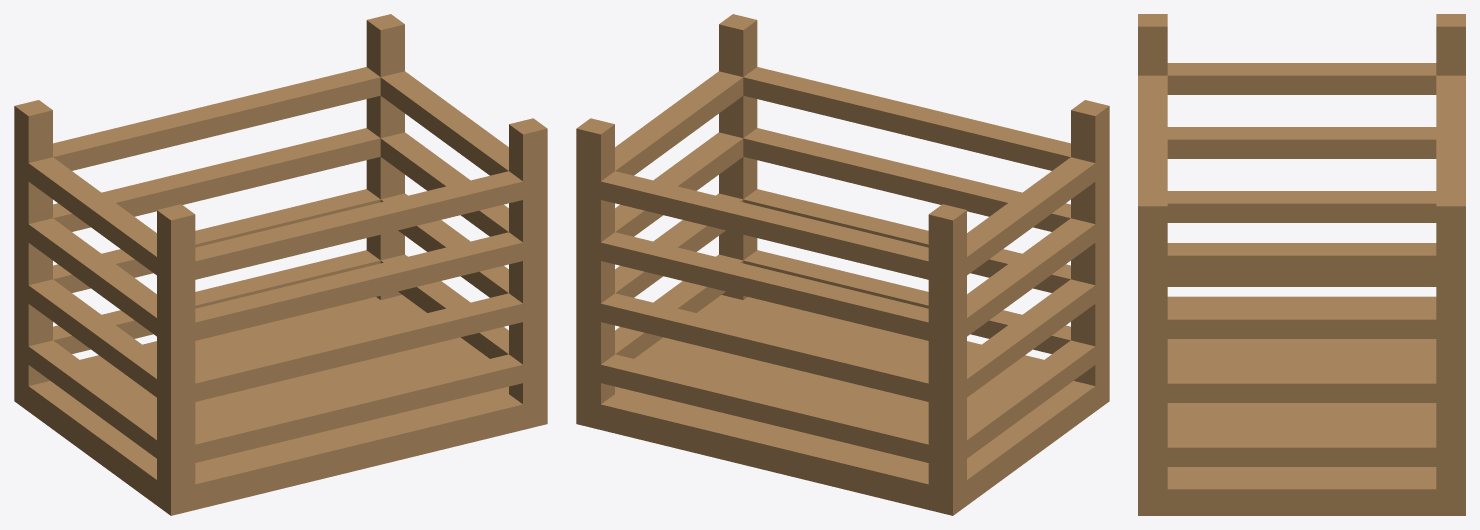
The model's file is crate.glb.
The picture shows the model from 3 angles, left to right: view 1: azimuth 30°, elevation 25°; view 2: azimuth 150°, elevation 25°; view 3: azimuth 270°, elevation 25°; orthographic projection. The views are drawn at different scales.
Parts seen in each view (by area): view 1: ForgeCore item; view 2: ForgeCore item; view 3: ForgeCore item.
Part boxes in pixels (box(x1,y1,x2,y2)): ForgeCore item: box(14, 14, 547, 515); ForgeCore item: box(576, 14, 1109, 515); ForgeCore item: box(1138, 14, 1465, 515).
Bounding box in the file's own units: 1 × 0.75 × 0.72.
